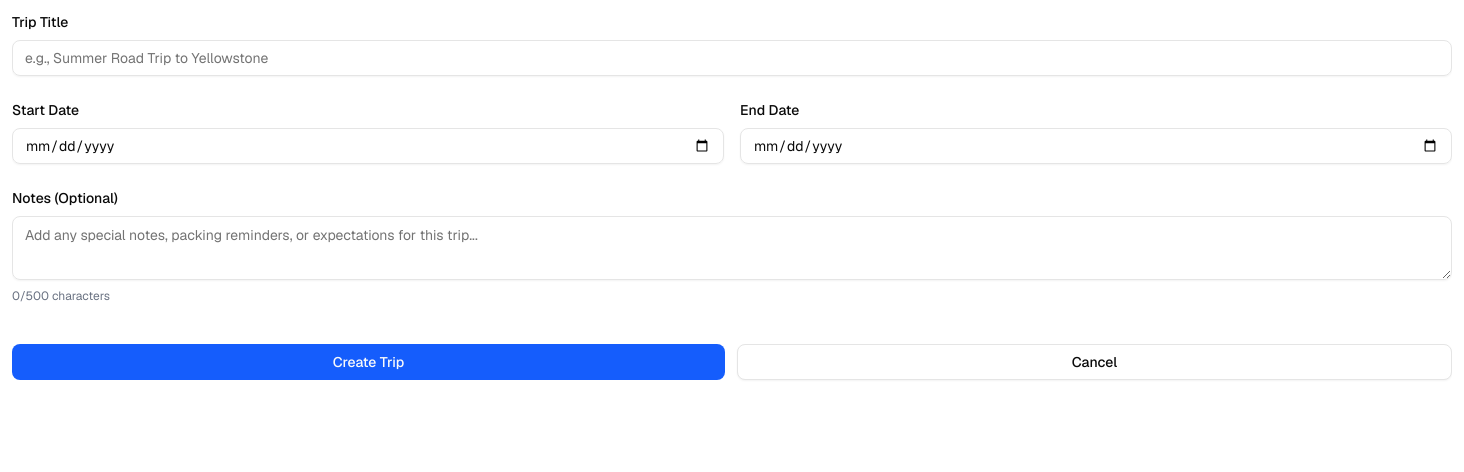
Scenario: TripForm Component › Advanced Validation Scenarios › should clear title error when user starts typing after validation error
This screenshot has width=1464, height=472.
// Submit empty form to trigger error
Click the button "Create Trip": (368, 362) [12,344,725,380]
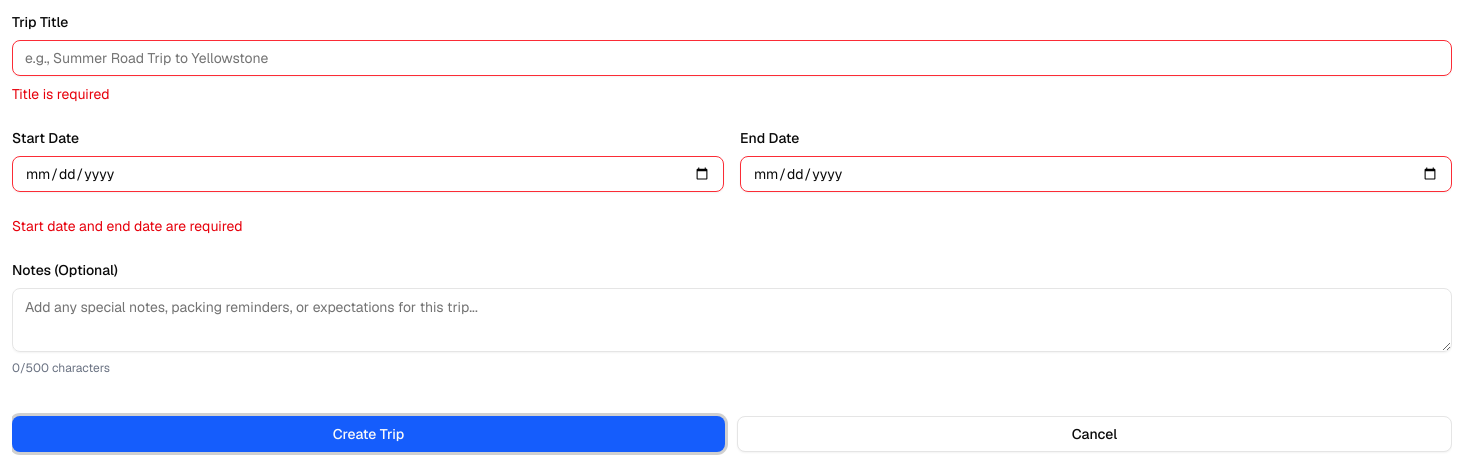
Result: the text "Title is required" is shown at [12,85,110,103]
// Start typing to clear error
In the field labelled "Trip Title": (732, 58) [12,40,1452,76], type "T"
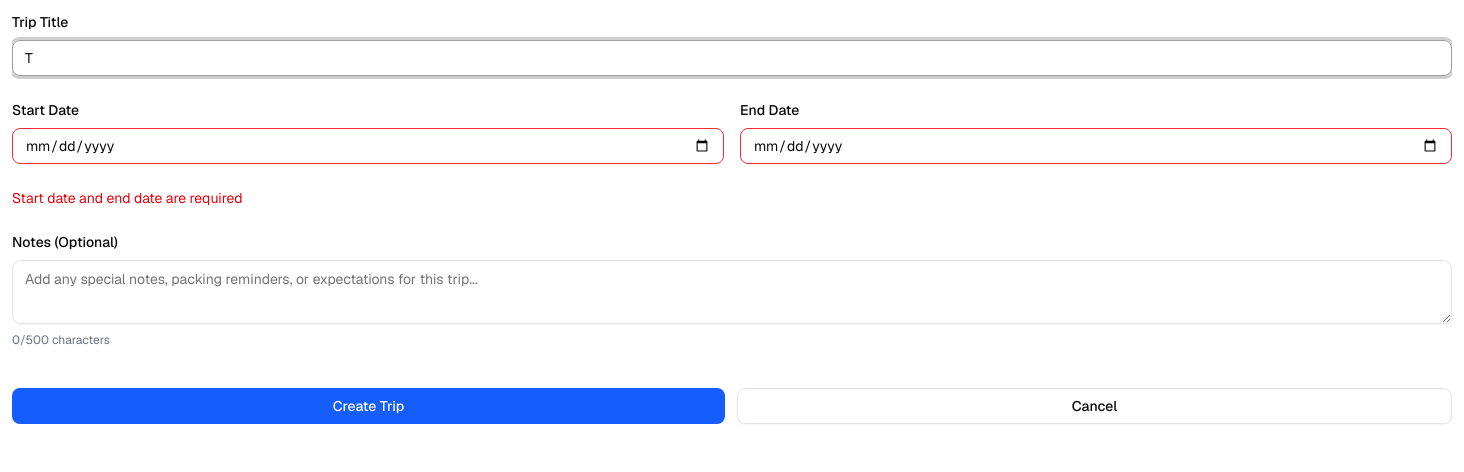
Result: the text "Title is required" is gone
